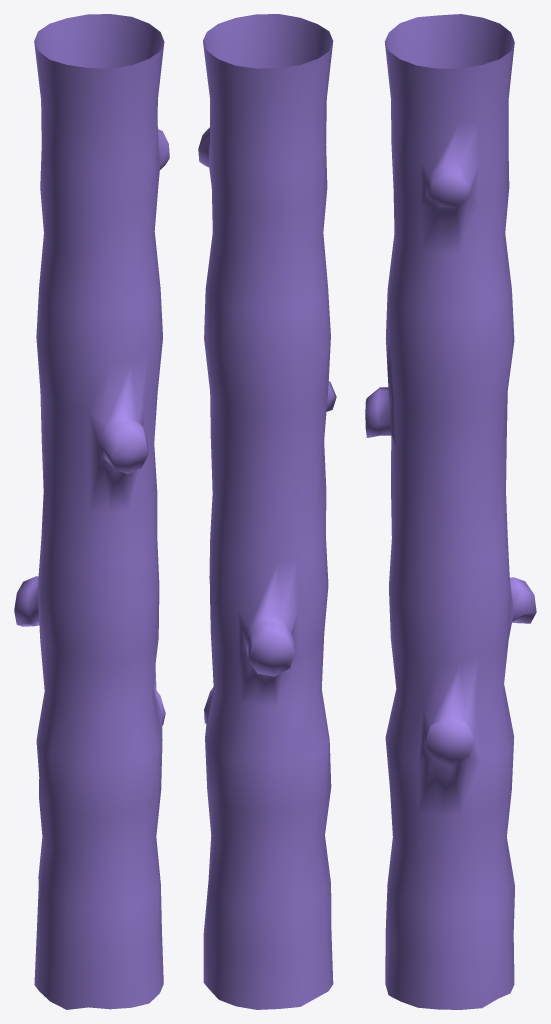
The model's file is pilier.fbx.
3 renders of one model, left to right at view 1: azimuth 30°, elevation 25°; view 2: azimuth 150°, elevation 25°; view 3: azimuth 270°, elevation 25°, orthographic.
Parts seen in each view (by area): view 1: tronc_grand_hight.005; view 2: tronc_grand_hight.005; view 3: tronc_grand_hight.005.
Boxes of the visible parts, x1,y1,x2,y2 form: tronc_grand_hight.005: (14, 14, 169, 1009); tronc_grand_hight.005: (198, 14, 336, 1009); tronc_grand_hight.005: (365, 14, 536, 1009).
Size of the model in its own units: 1.61 by 1.27 by 9.8.
